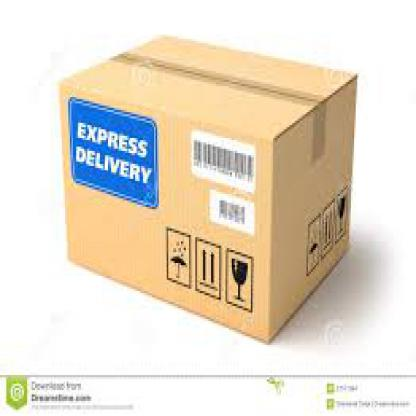paquete: (51, 17, 360, 356)
